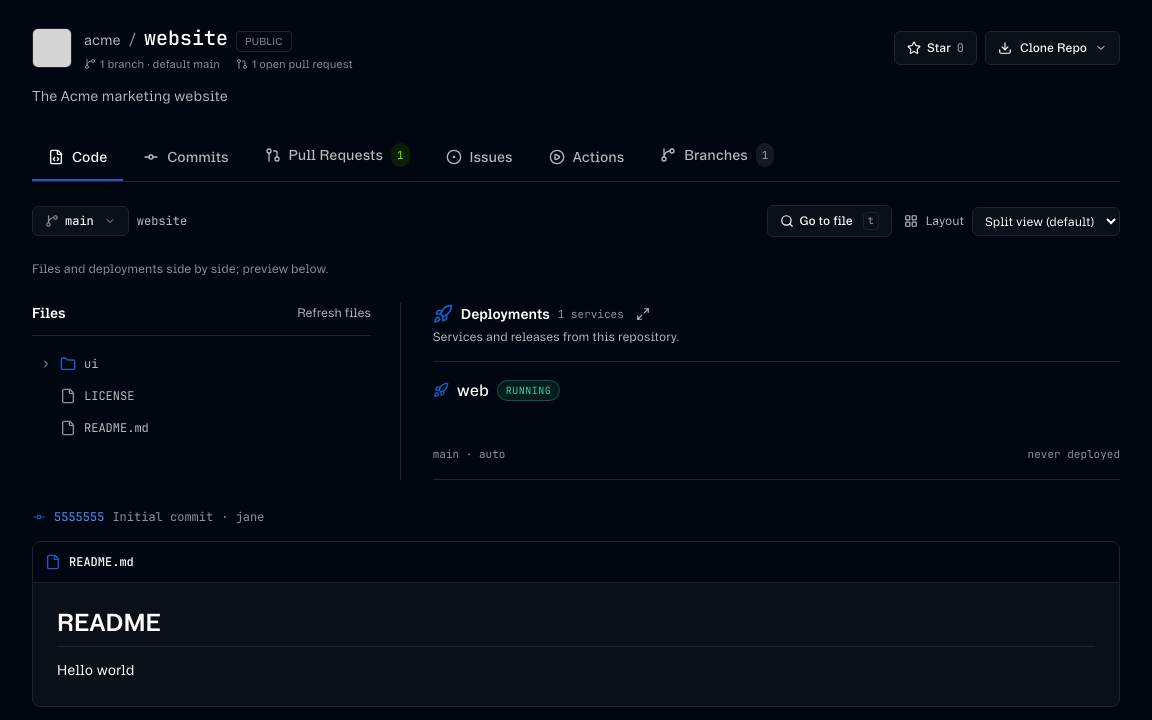
it: RepoView — Code tree › opens a file as a blob view when clicked
Step 1. Click the list item "README.md" → (116, 428), box [32,412,343,444]
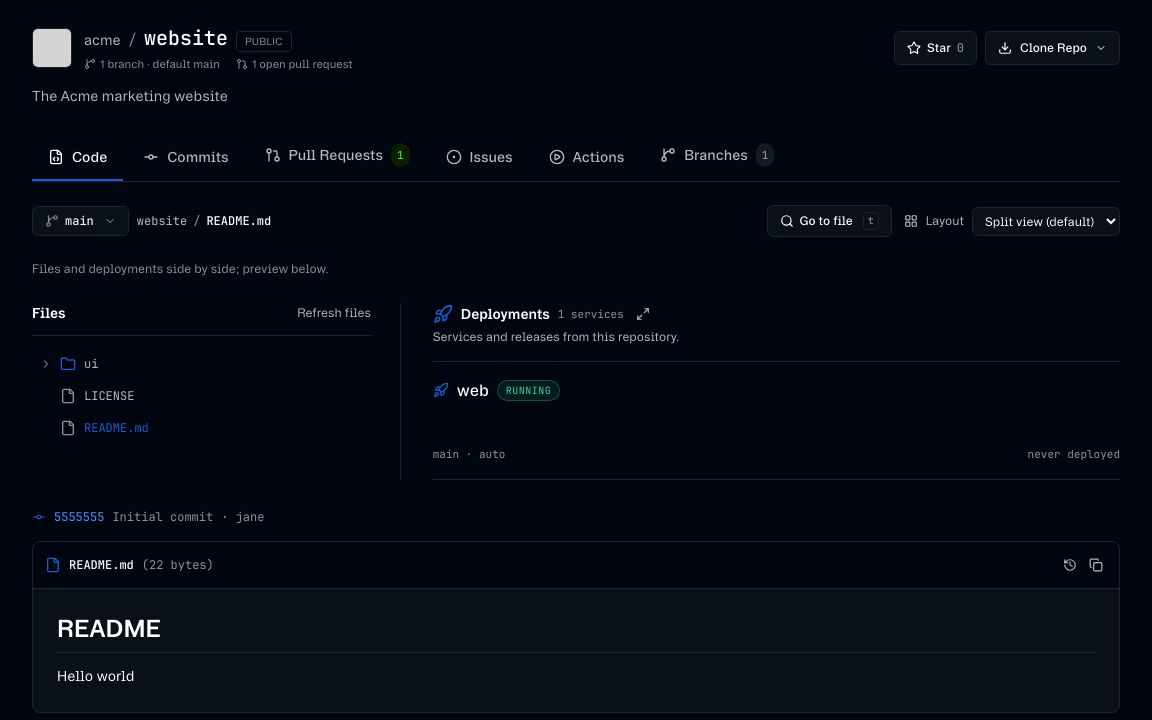
Expected: the text "Hello world" is shown, [57,668,134,684]
Result: the text "(22 bytes)" is shown at [142,556,214,572]
